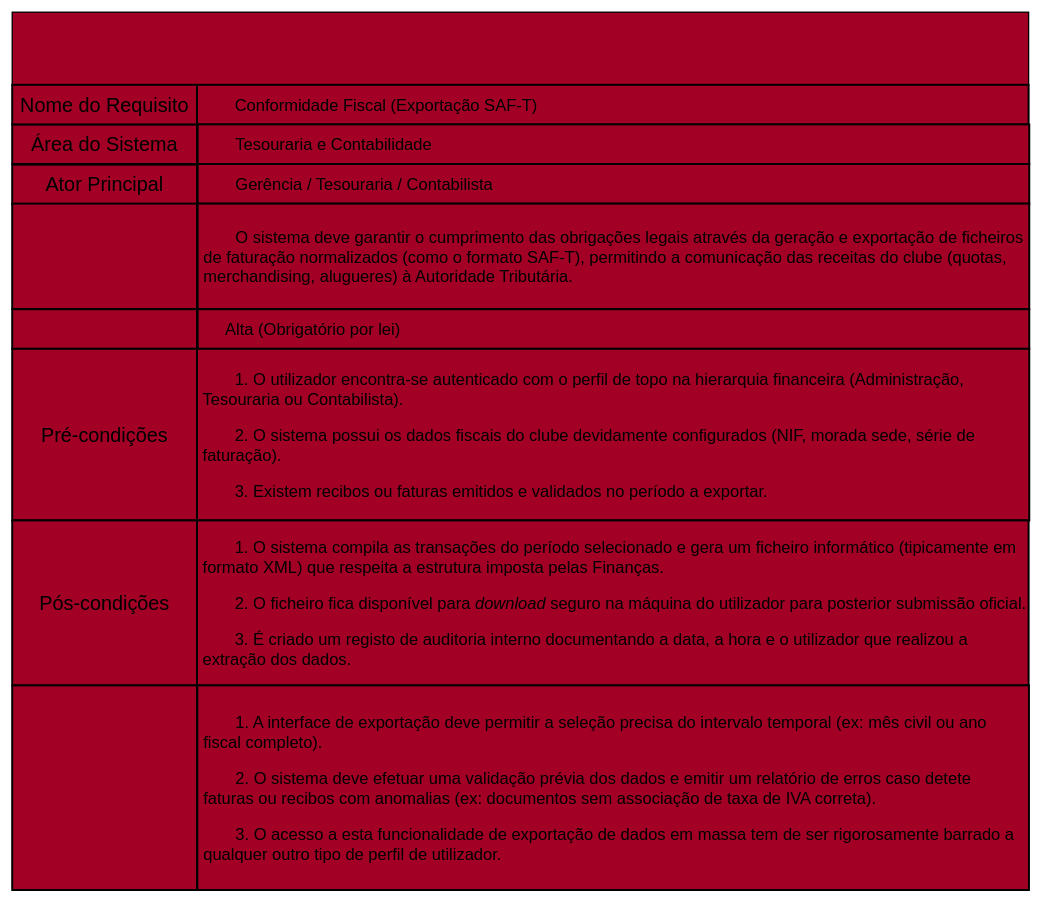
Some shapes in this 1041 by 902 pixel diagram are drawn without their labels. The shapes that lost their labels are listed below. From the top down, each one's centre as x and y in pixels, then its label:
At pixel 520 48: "RF-19".
At pixel 104 256: "Descrição".
At pixel 104 328: "Prioridade".
At pixel 104 787: "Critérios de Aceitação".
